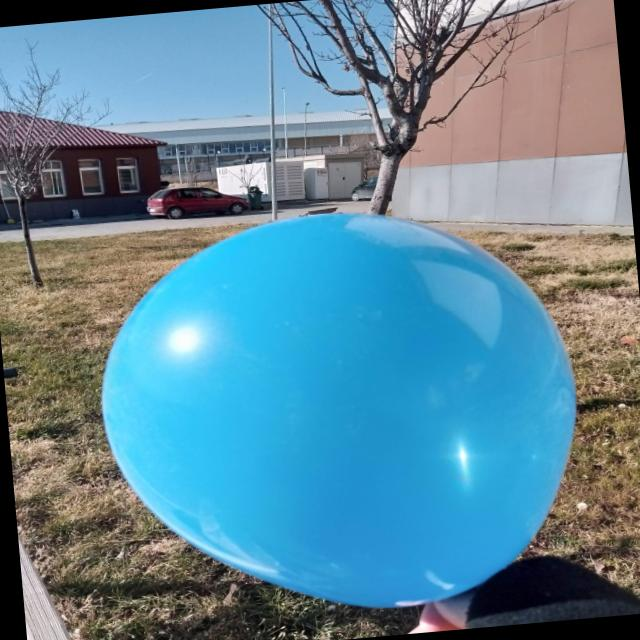balloon: (102, 213, 576, 606)
